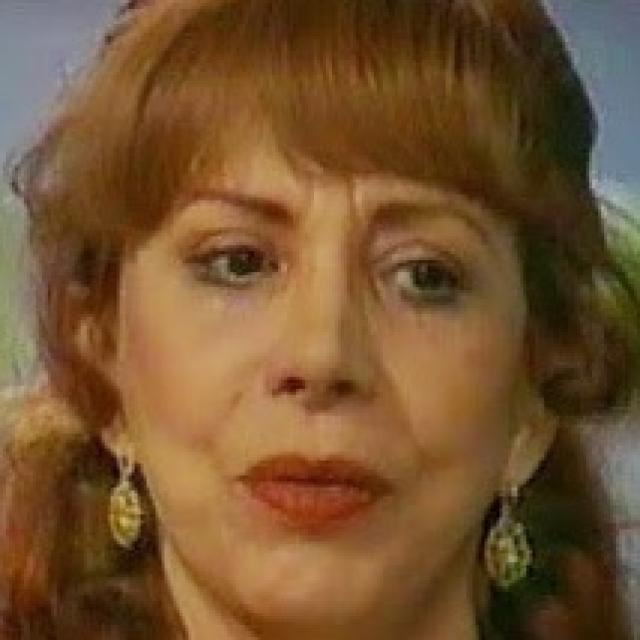Depress: (120, 125, 532, 637)
